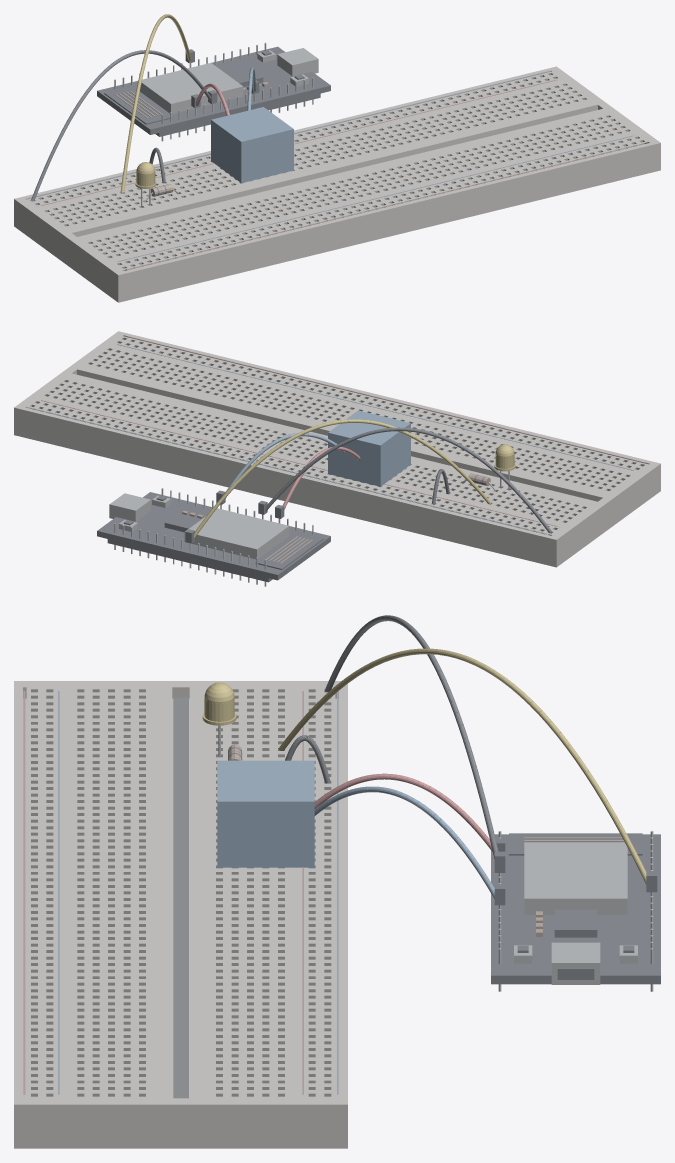
The model's file is step-8.glb.
3 views of the same model, one above another, from view 1: azimuth 30°, elevation 25°; view 2: azimuth 150°, elevation 25°; view 3: azimuth 270°, elevation 25° (orthographic). The views are drawn at different scales.
Parts seen in each view (by area): view 1: bb1__mesh, uno__mesh, pot1__mesh, w_gnd_rail__mesh, w_led_sig__mesh, led_yellow__mesh; view 2: bb1__mesh, uno__mesh, pot1__mesh, w_led_sig__mesh, w_gnd_rail__mesh, w_pot_wiper__mesh, led_yellow__mesh, w_pot_5v__mesh; view 3: bb1__mesh, uno__mesh, pot1__mesh, w_led_sig__mesh, w_gnd_rail__mesh, w_pot_wiper__mesh, w_pot_5v__mesh, led_yellow__mesh.
Part boxes in pixels (x1=…): bb1__mesh: x1=14, y1=66, x2=660, y2=302; uno__mesh: x1=97, y1=42, x2=330, y2=141; pot1__mesh: x1=211, y1=107, x2=293, y2=183; w_gnd_rail__mesh: x1=31, y1=50, x2=217, y2=200; w_led_sig__mesh: x1=120, y1=14, x2=194, y2=192; led_yellow__mesh: x1=135, y1=162, x2=156, y2=207; bb1__mesh: x1=14, y1=331, x2=660, y2=567; uno__mesh: x1=97, y1=488, x2=330, y2=586; pot1__mesh: x1=328, y1=410, x2=410, y2=487; w_led_sig__mesh: x1=185, y1=419, x2=491, y2=543; w_gnd_rail__mesh: x1=258, y1=427, x2=551, y2=532; w_pot_wiper__mesh: x1=216, y1=433, x2=344, y2=504; led_yellow__mesh: x1=494, y1=444, x2=515, y2=489; w_pot_5v__mesh: x1=275, y1=447, x2=360, y2=518; bb1__mesh: x1=14, y1=681, x2=347, y2=1148; uno__mesh: x1=491, y1=831, x2=660, y2=991; pot1__mesh: x1=217, y1=760, x2=314, y2=868; w_led_sig__mesh: x1=278, y1=648, x2=657, y2=892; w_gnd_rail__mesh: x1=325, y1=615, x2=505, y2=872; w_pot_wiper__mesh: x1=314, y1=786, x2=505, y2=905; w_pot_5v__mesh: x1=314, y1=773, x2=505, y2=852; led_yellow__mesh: x1=202, y1=682, x2=236, y2=756.
Size of the model in its own units: 0.165 by 0.0379 by 0.1065.
